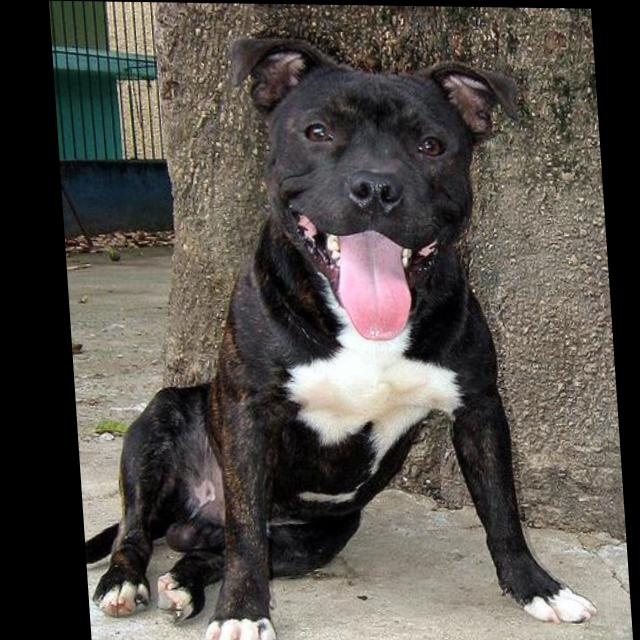amstaff: (52, 32, 593, 640)
